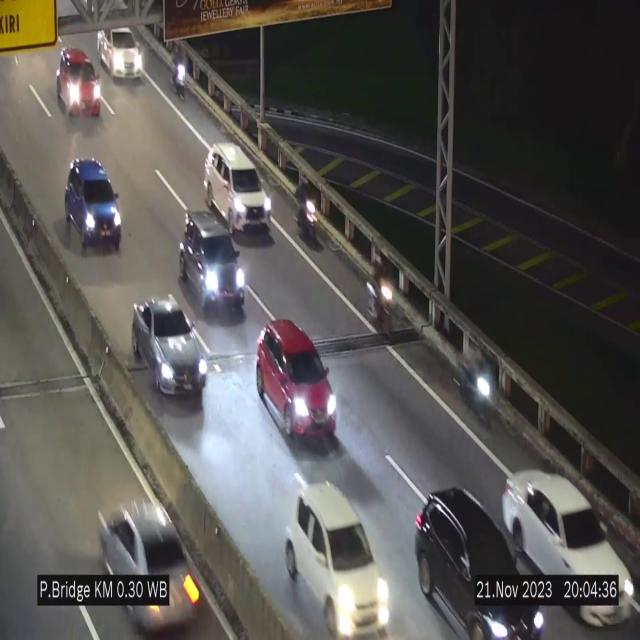Car: (503, 446, 640, 627), (410, 458, 546, 640), (90, 472, 214, 640), (288, 480, 390, 640), (253, 316, 337, 448), (178, 208, 248, 319), (132, 297, 206, 395), (204, 143, 272, 234), (65, 157, 121, 253), (53, 47, 103, 125), (97, 24, 144, 82)
Motorcycle: (455, 345, 495, 437), (368, 254, 396, 340), (296, 173, 323, 255), (171, 44, 187, 106)
